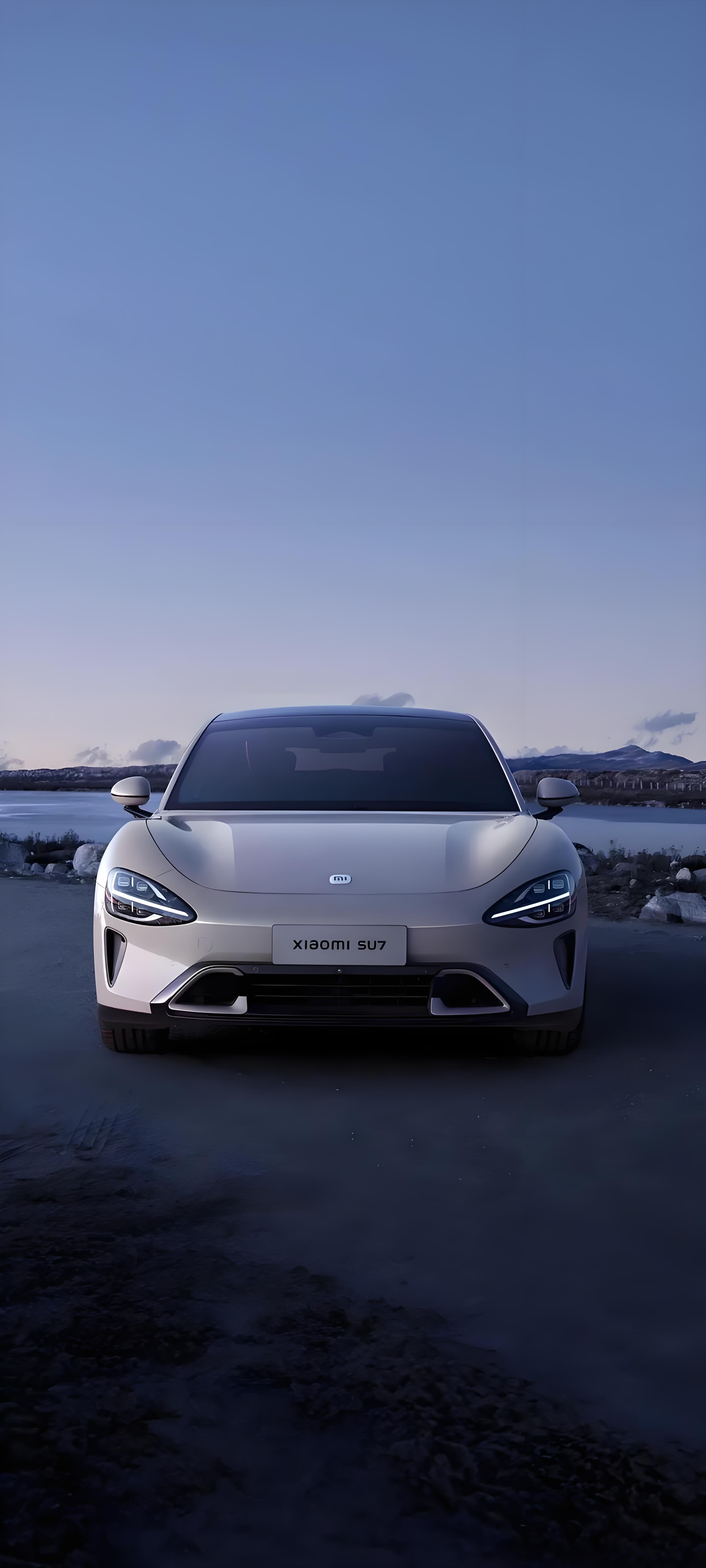XIAOMI: (329, 875, 351, 884)
